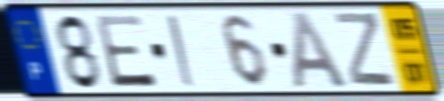6: (219, 12, 271, 90)
8: (52, 10, 103, 94)
A: (290, 10, 352, 91)
E: (92, 12, 160, 90)
I: (163, 12, 199, 90)
Z: (331, 10, 398, 90)
